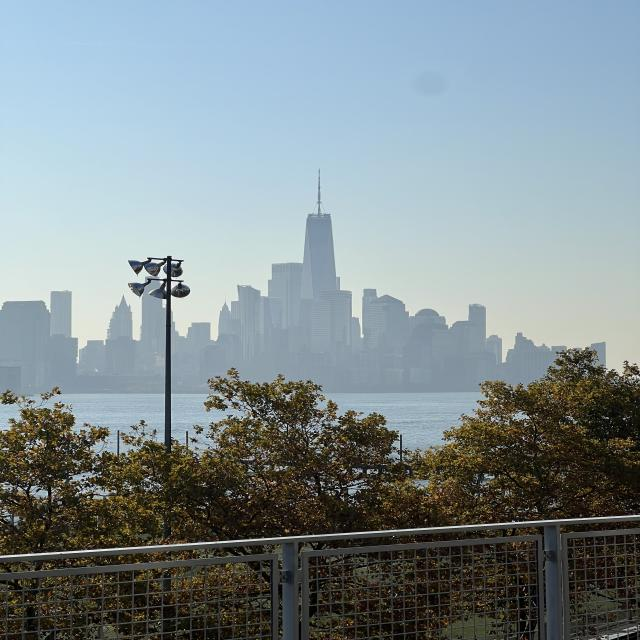WTC: (300, 168, 339, 298)
